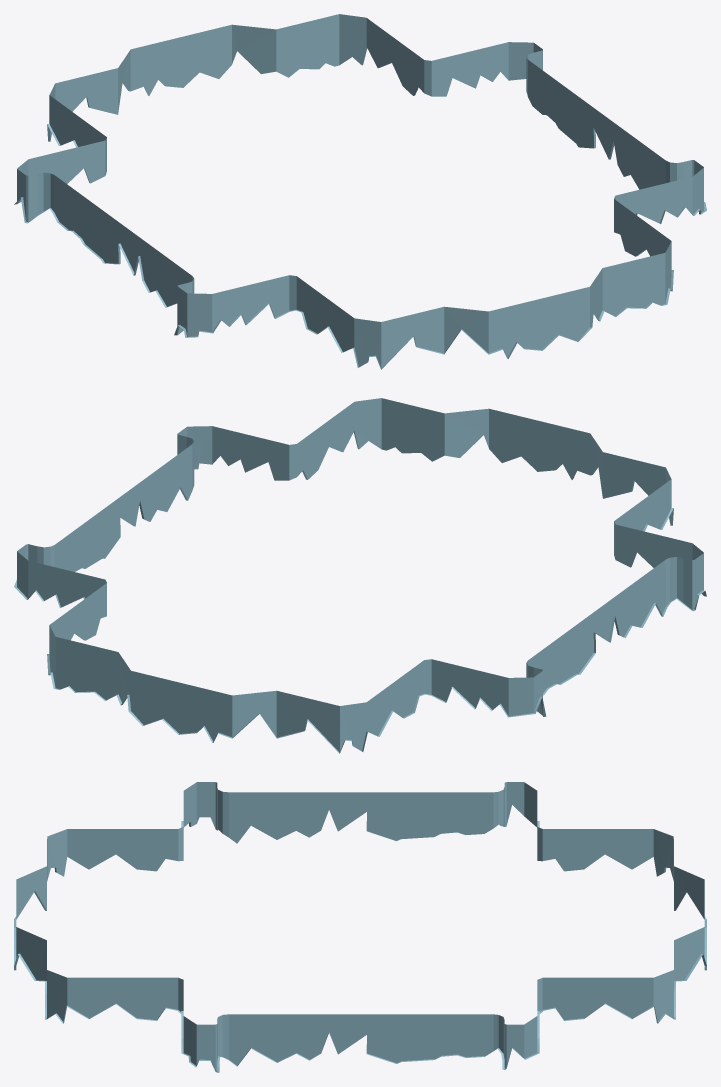
The model's file is BC_Collider_LuoShi.FBX.
3 views of the same model, one above another, from view 1: azimuth 30°, elevation 25°; view 2: azimuth 150°, elevation 25°; view 3: azimuth 270°, elevation 25° (orthographic). The views are drawn at different scales.
Visible parts, largest first — view 1: BC_Collider_LuoShi; view 2: BC_Collider_LuoShi; view 3: BC_Collider_LuoShi.
Part boxes in pixels (box(x1,y1,x2,y2)): BC_Collider_LuoShi: box(14, 14, 706, 369); BC_Collider_LuoShi: box(14, 398, 706, 753); BC_Collider_LuoShi: box(14, 782, 706, 1072).
Bounding box in the file's own units: 37.18 × 3.65 × 44.51.
